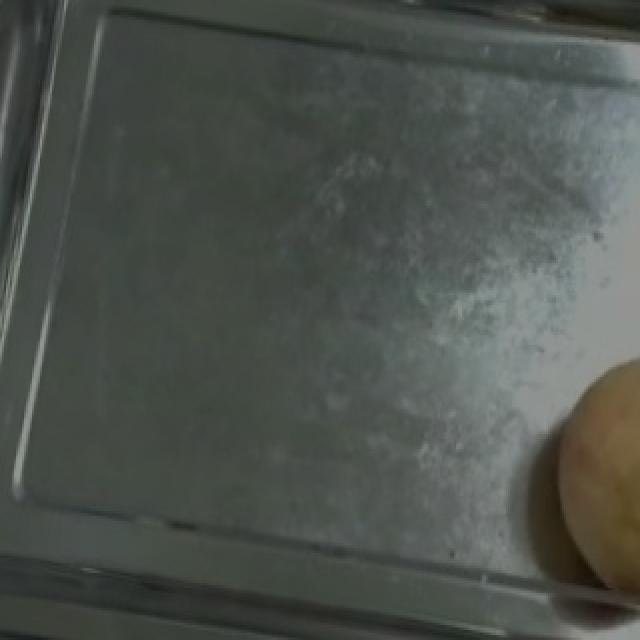Fruit: (522, 342, 640, 632)
